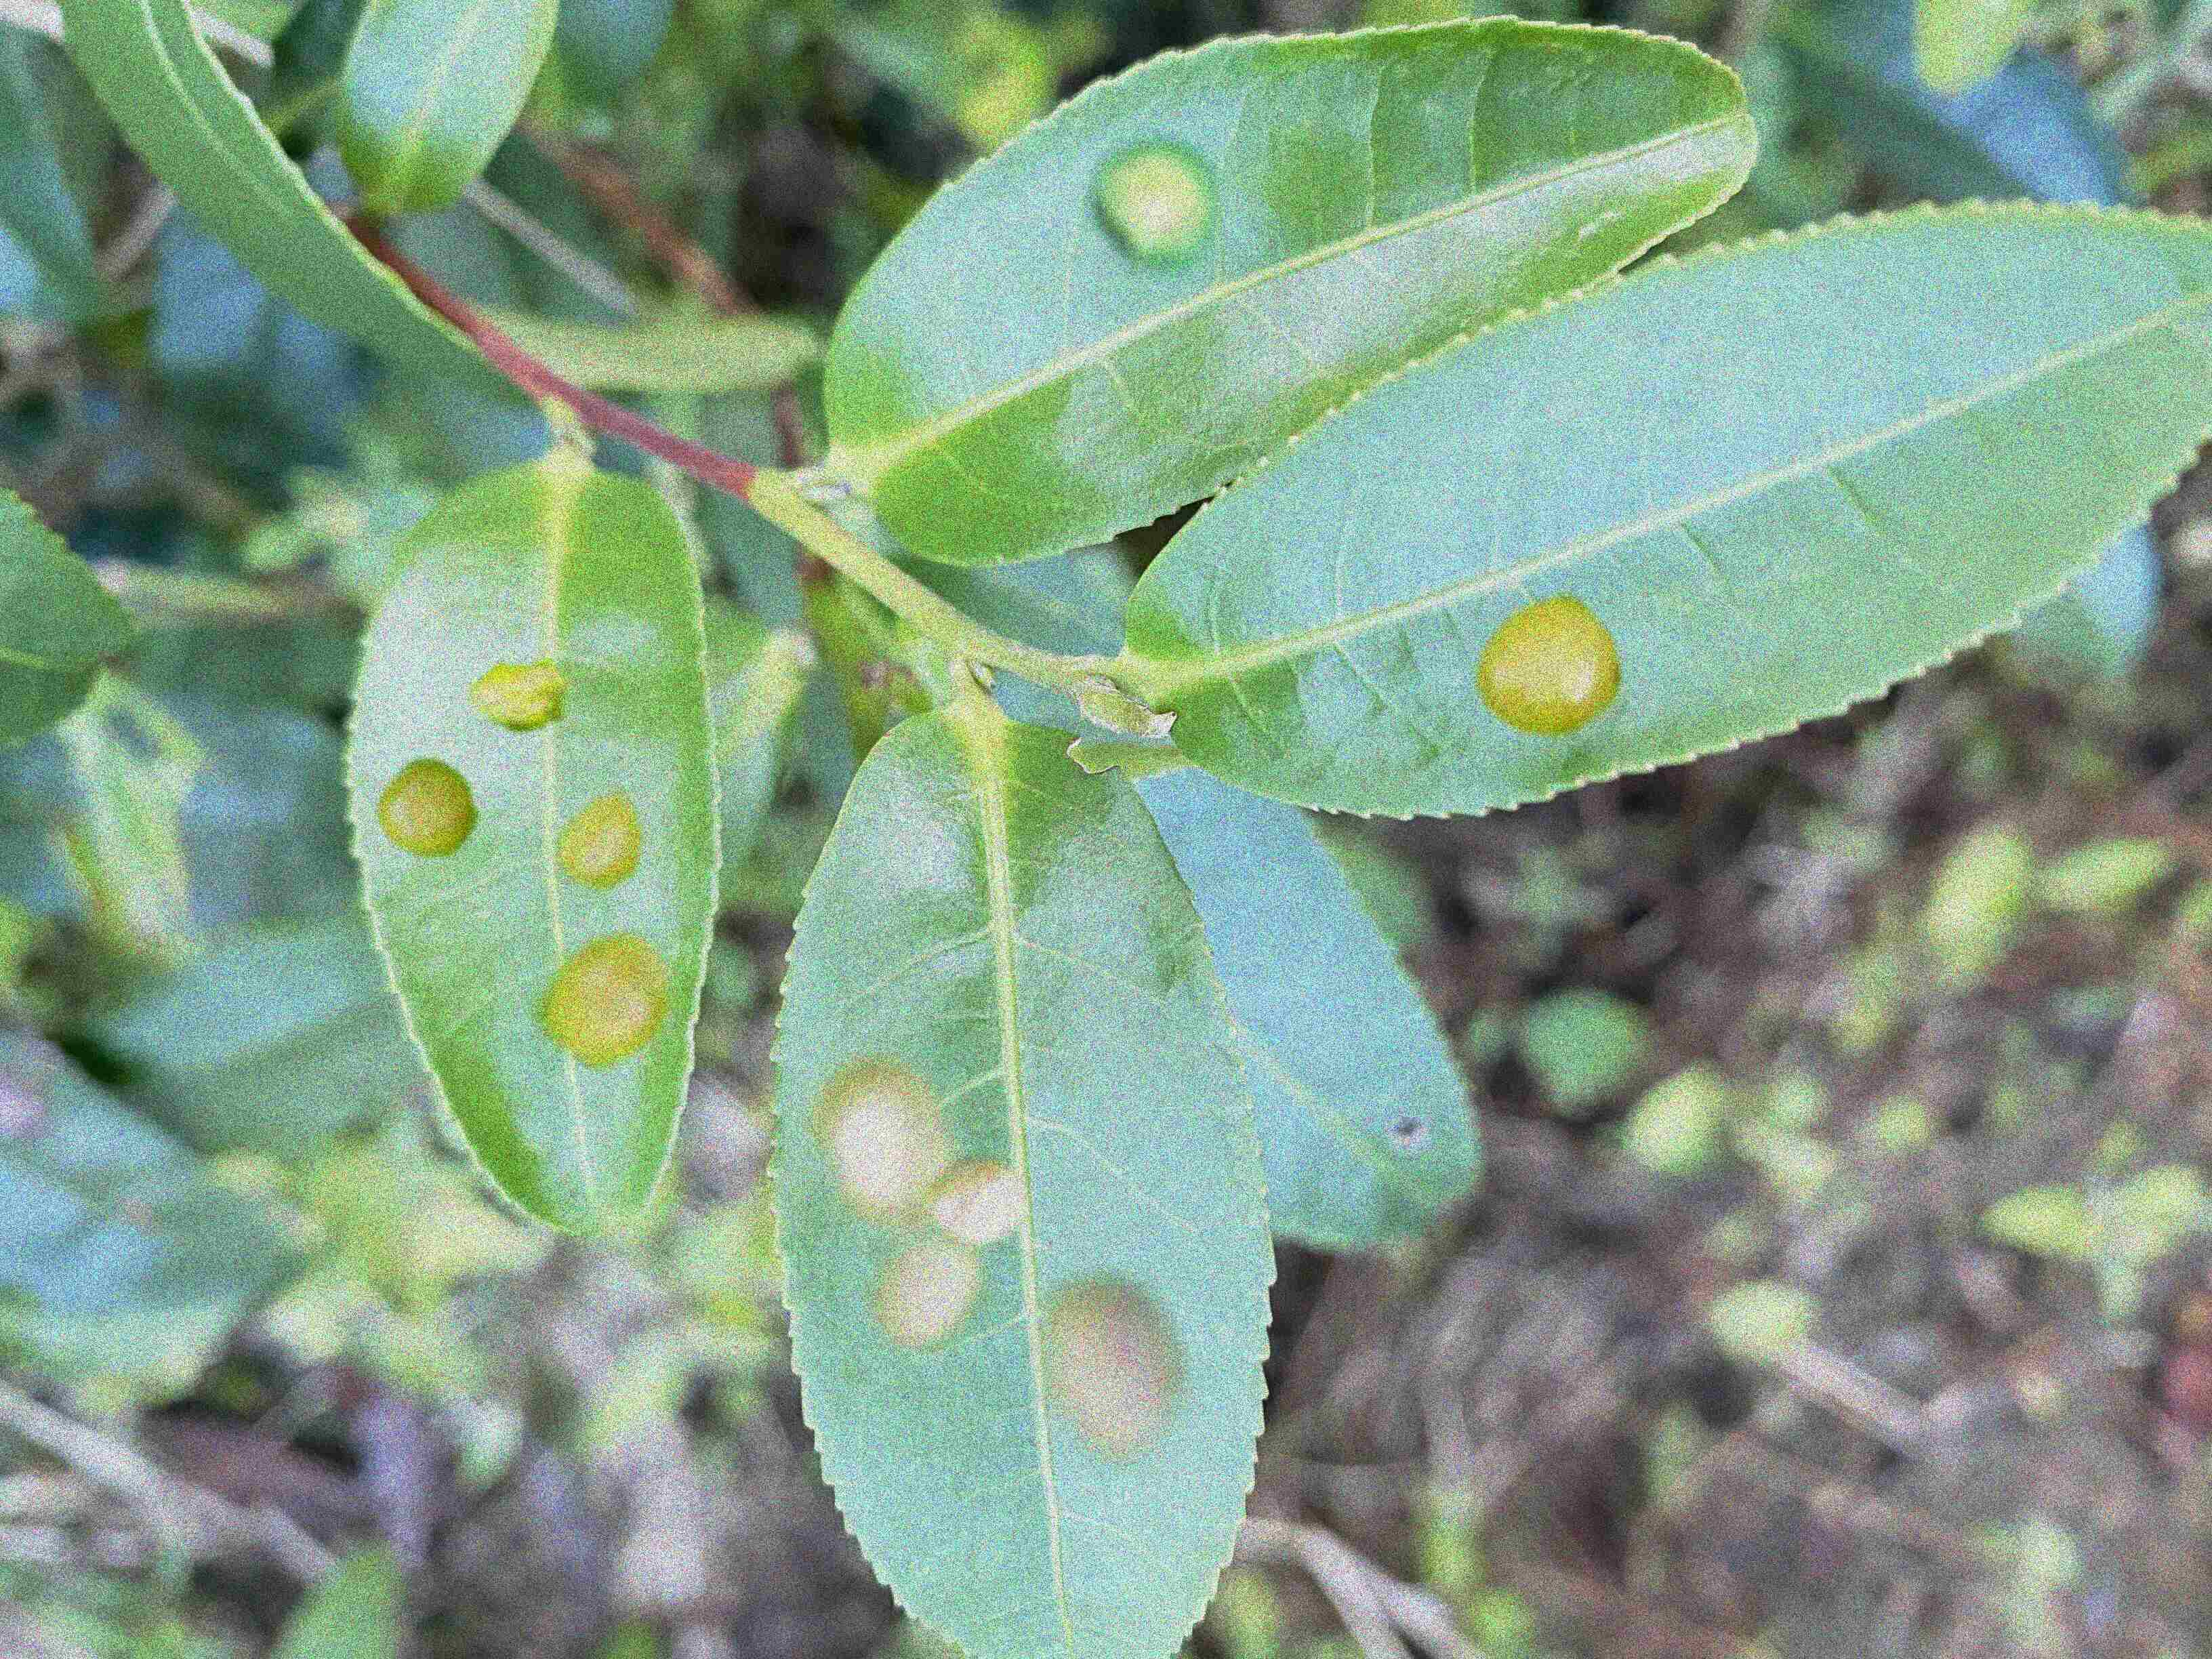chabing_high: (766, 701, 1280, 1657), (340, 457, 721, 1236)
chabing_low: (1113, 193, 2210, 824), (824, 16, 1764, 565)
